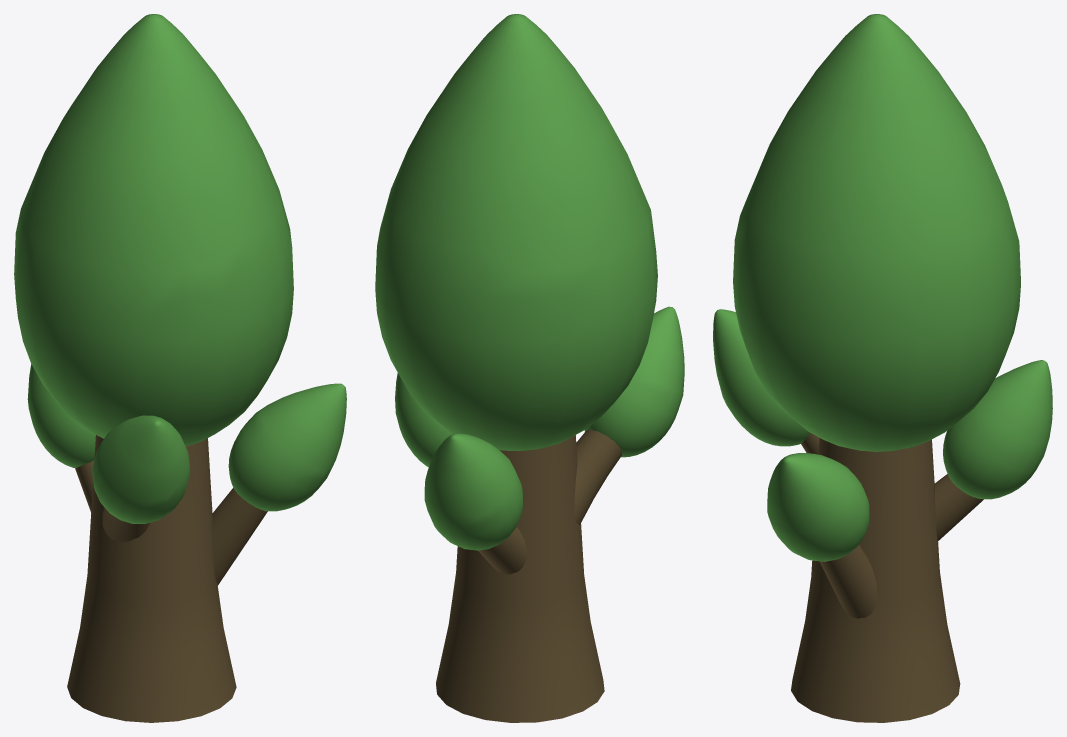
The model's file is Arbol5.fbx.
3 renders of one model, left to right at view 1: azimuth 30°, elevation 25°; view 2: azimuth 150°, elevation 25°; view 3: azimuth 270°, elevation 25°, orthographic.
Parts seen in each view (by area): view 1: polySurface188; view 2: polySurface188; view 3: polySurface188.
Boxes of the visible parts, x1,y1,x2,y2 form: polySurface188: (14, 14, 346, 722); polySurface188: (375, 14, 684, 722); polySurface188: (713, 14, 1052, 722).
Size of the model in its own units: 3.63 by 8.59 by 3.93.
